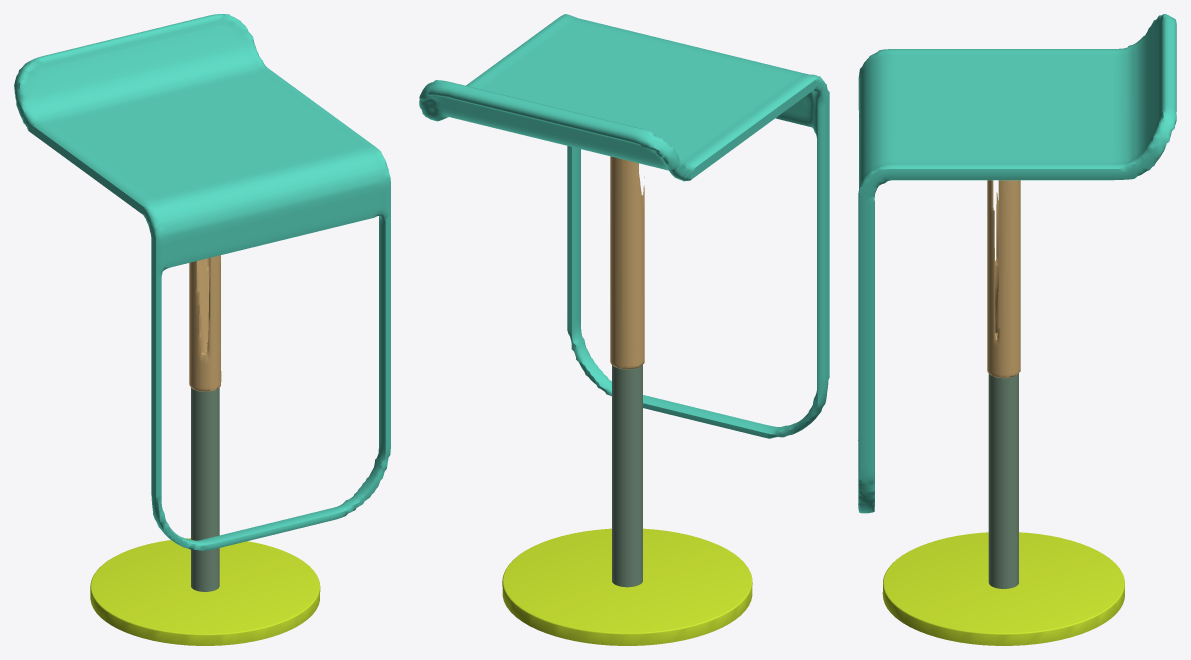
3 renders of one model, left to right at view 1: azimuth 30°, elevation 25°; view 2: azimuth 150°, elevation 25°; view 3: azimuth 270°, elevation 25°, orthographic. The views are drawn at different scales.
Parts seen in each view (by area): view 1: split_parent_0, Object_20, Object_18, split_parent_1; view 2: split_parent_0, Object_20, split_parent_1, Object_18; view 3: split_parent_0, Object_20, Object_18, split_parent_1.
Boxes of the visible parts, x1,y1,x2,y2 form: split_parent_0: (14, 14, 390, 550); Object_20: (90, 538, 320, 645); Object_18: (191, 387, 219, 591); split_parent_1: (189, 255, 221, 391); split_parent_0: (419, 14, 829, 438); Object_20: (502, 528, 752, 645); split_parent_1: (610, 156, 644, 369); Object_18: (612, 365, 642, 587); split_parent_0: (858, 14, 1176, 513); Object_20: (882, 532, 1124, 645); Object_18: (988, 373, 1018, 588); split_parent_1: (987, 180, 1020, 377).
Size of the model in its own units: 0.4871 by 1 by 0.5428.
